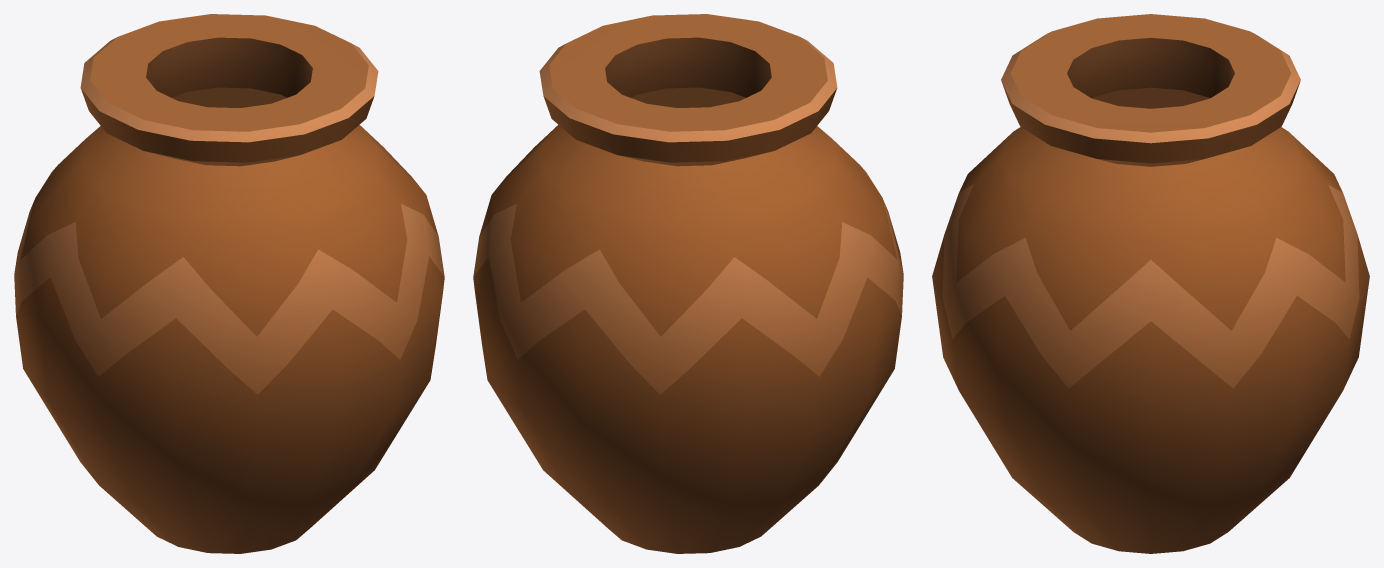
The model's file is Regular_Pot.FBX.
3 renders of one model, left to right at view 1: azimuth 30°, elevation 25°; view 2: azimuth 150°, elevation 25°; view 3: azimuth 270°, elevation 25°, orthographic.
Visible parts, largest first — view 1: Pot; view 2: Pot; view 3: Pot.
Boxes of the visible parts, x1,y1,x2,y2 form: Pot: (14, 14, 444, 553); Pot: (473, 14, 903, 553); Pot: (932, 14, 1369, 553).
Size of the model in its own units: 0.7001 by 0.7856 by 0.7001.
